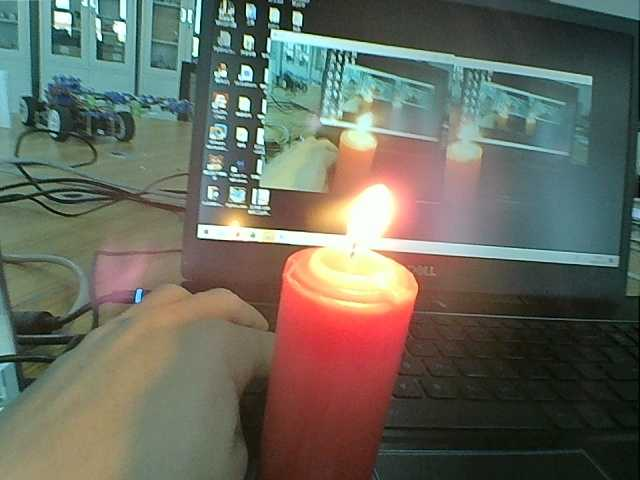candle: (260, 250, 409, 480), (335, 143, 373, 182)
fire: (335, 185, 403, 251), (348, 106, 376, 142), (456, 121, 474, 154)
